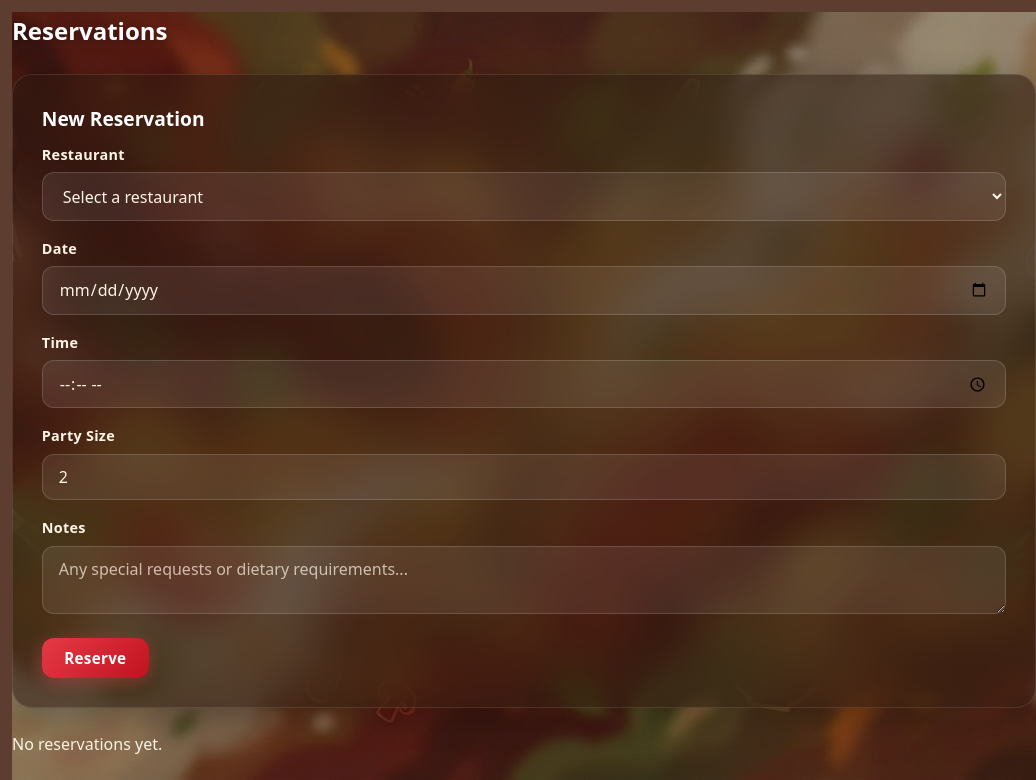
it: Reservations › shows validation errors on blur with empty fields
The width and height of the screenshot is (1036, 780).
Check: the text "Restaurant" is shown, box 42,145 -> 125,164
# Trigger blur on restaurant select
Step 1. Click the dropdown showing "Select a restaurant" → [524, 196], box 42,172 -> 1006,221
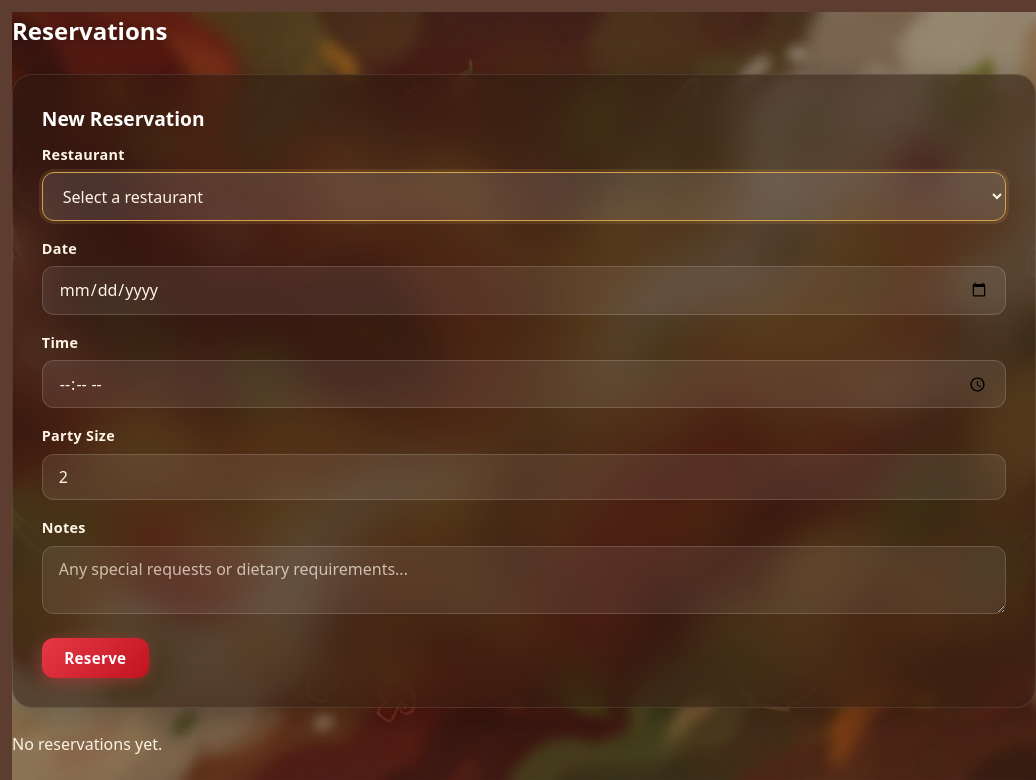
Step 2. Press Tab
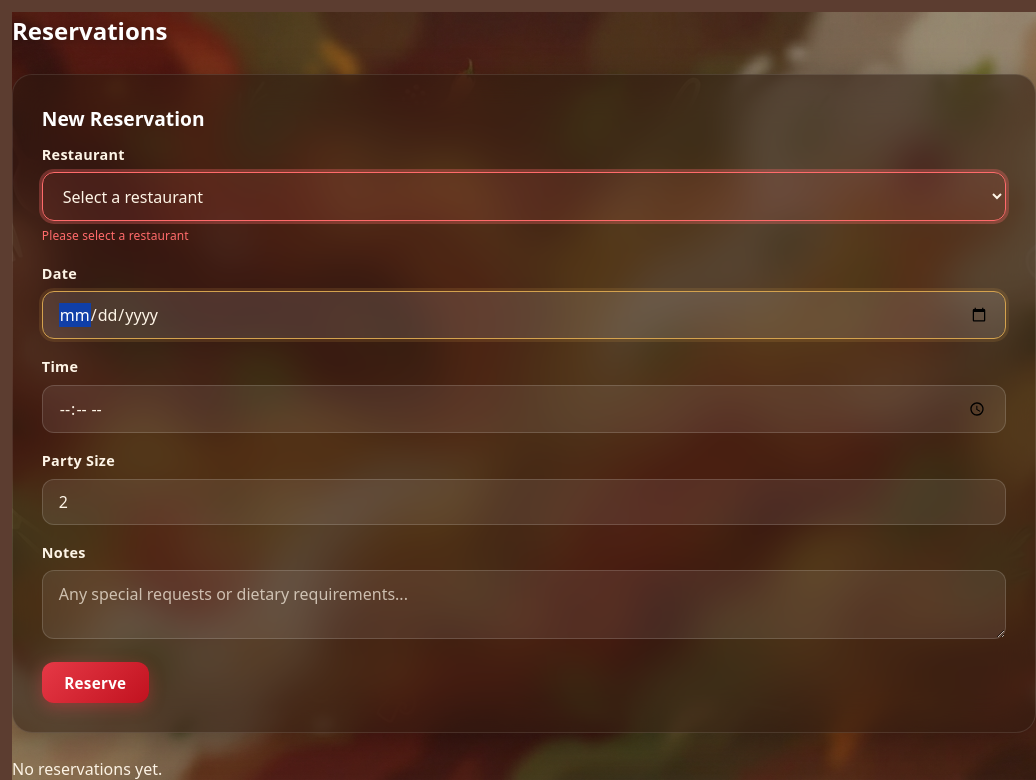
Check: the text "Please select a restaurant" is shown, box 42,227 -> 189,244
